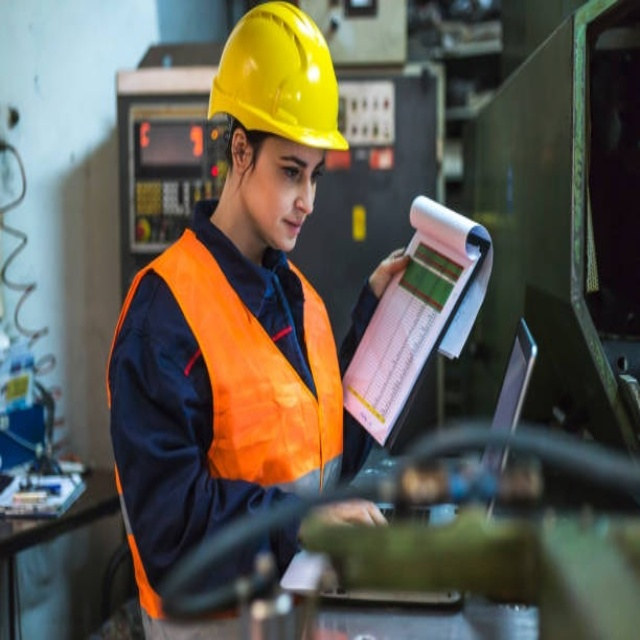Sin_gafas: (264, 151, 327, 188)
Sin_guantes: (314, 498, 390, 530), (368, 245, 412, 300)
Sin_mascara: (277, 204, 307, 246)
